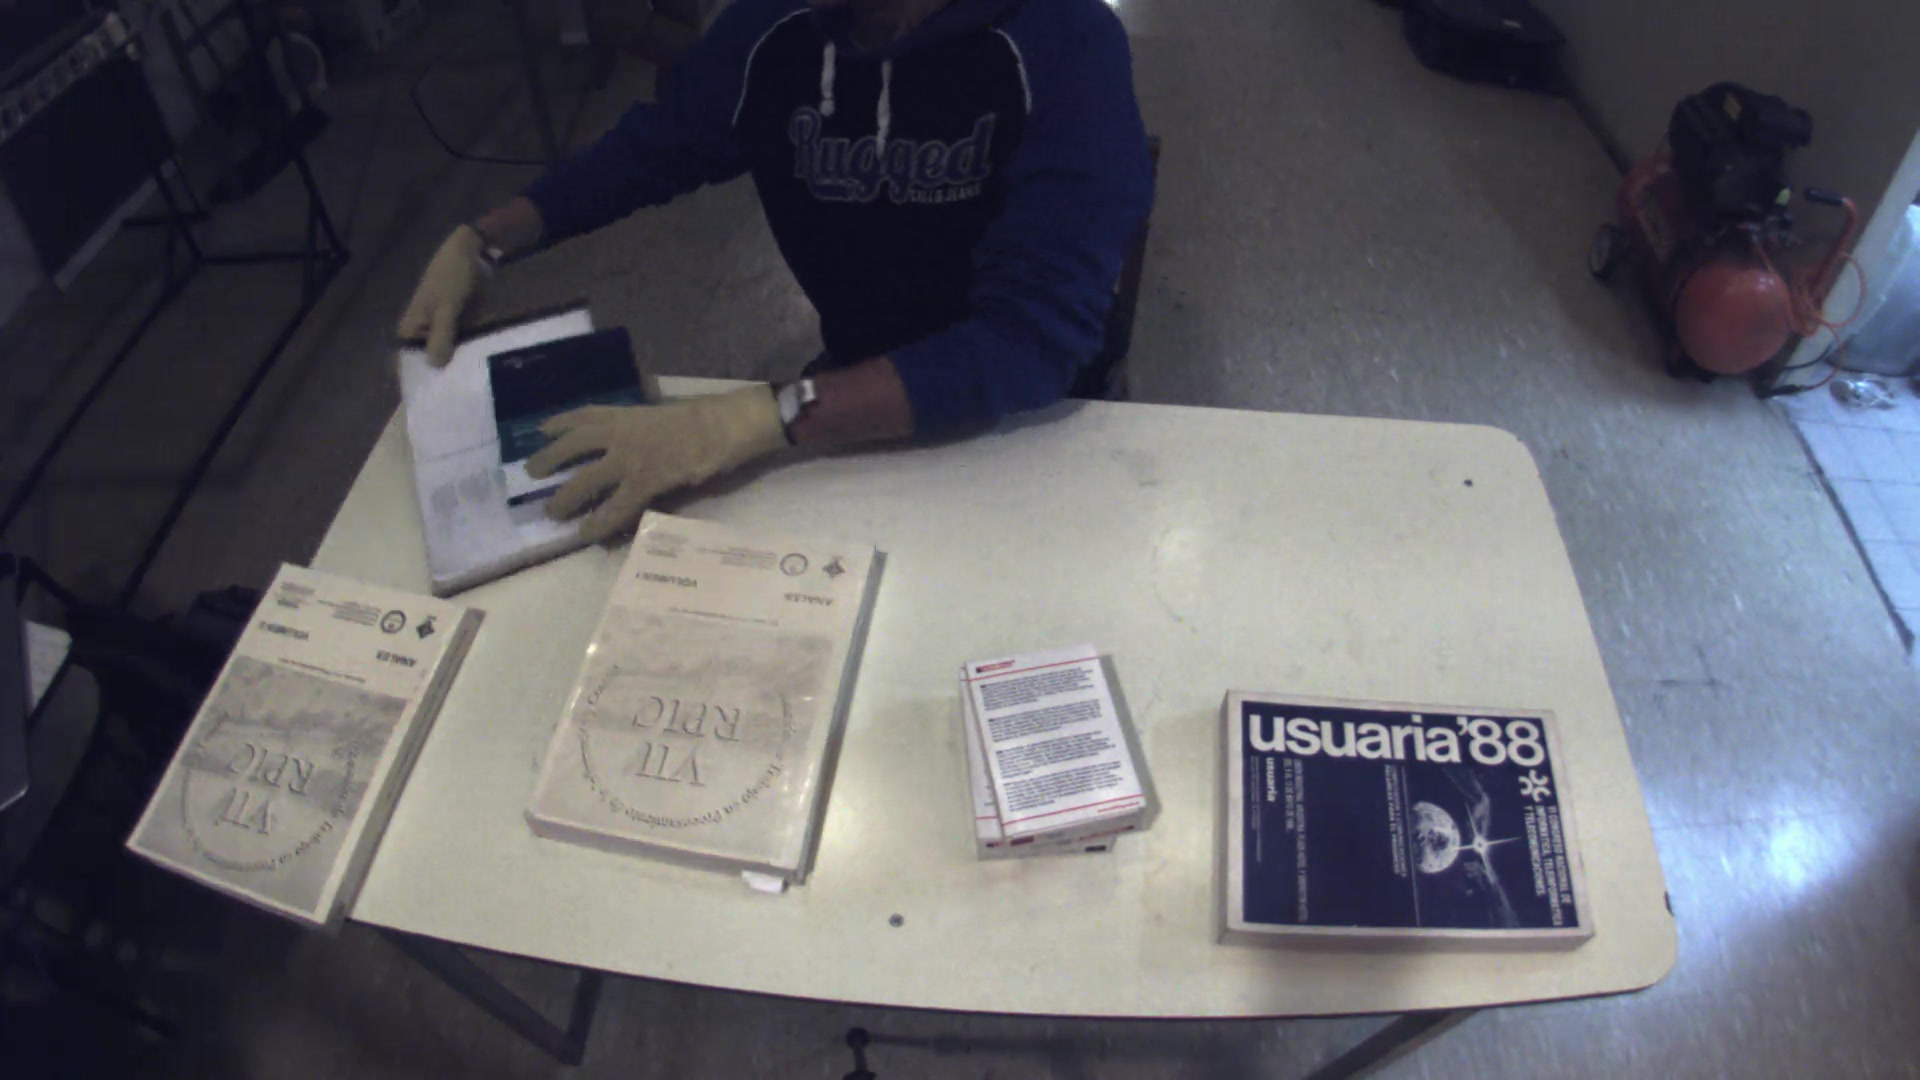hand: (504, 367, 785, 550), (385, 222, 498, 365)
